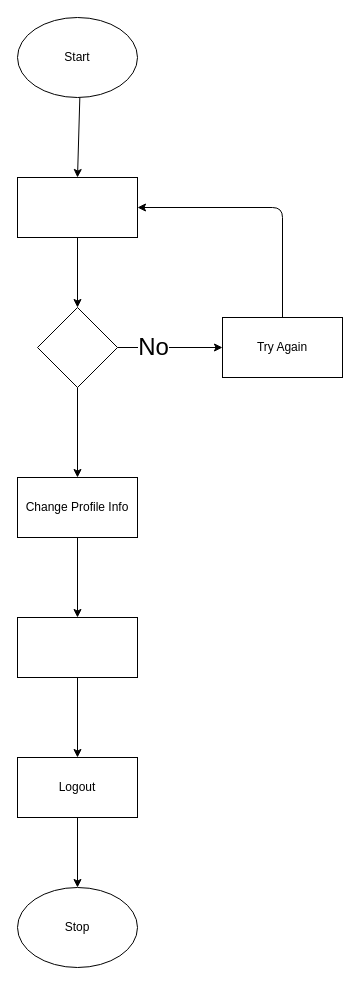
Image size: 360x985. Some labels were removed from this diagram. Each missing label, with the centre of its shape:
"Login" belongs at [77,207].
"Manage All Data" belongs at [77,647].
"Success" belongs at [77,347].
